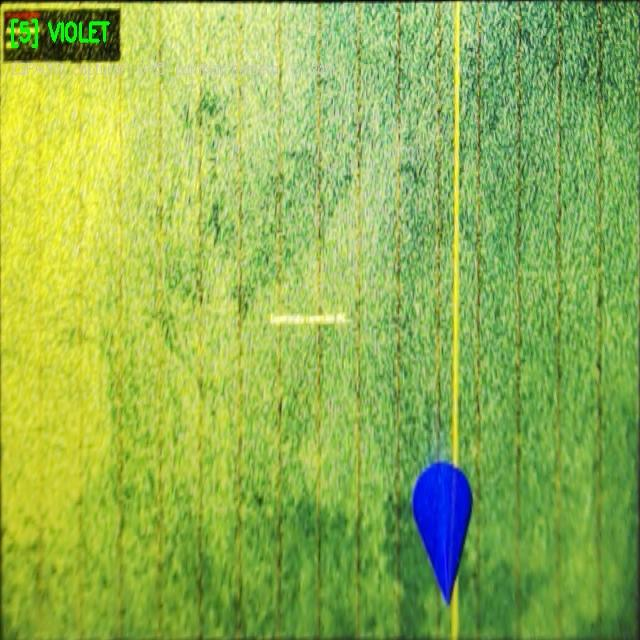violet: (413, 461, 471, 604)
